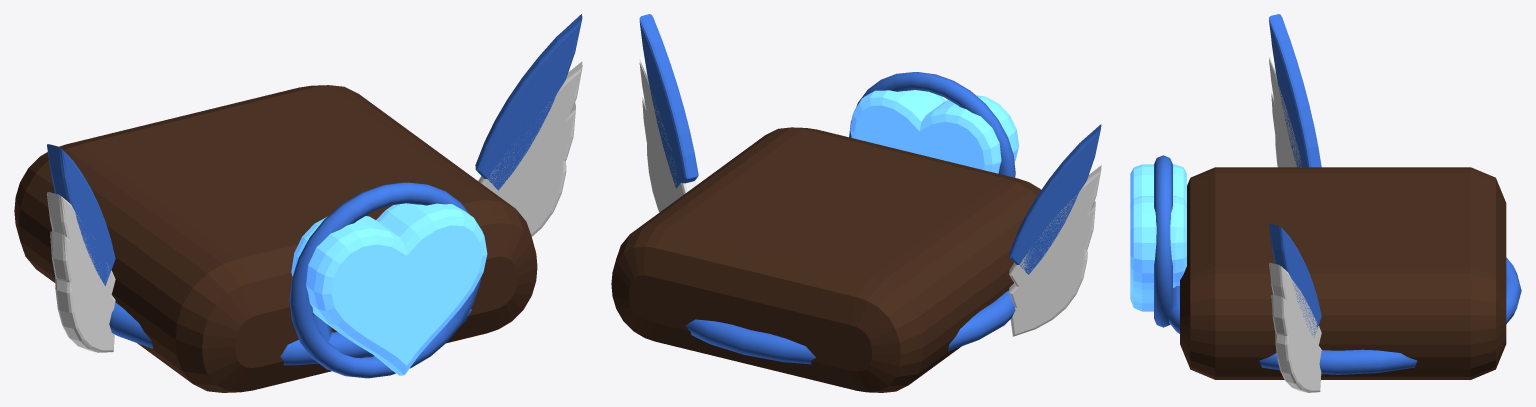
File: hat_eqmo1.glb
The picture shows the model from 3 angles, left to right: view 1: azimuth 30°, elevation 25°; view 2: azimuth 150°, elevation 25°; view 3: azimuth 270°, elevation 25°; orthographic projection. The views are drawn at different scales.
Bounding box in the file's own units: 3.08 × 1.4 × 2.4.
